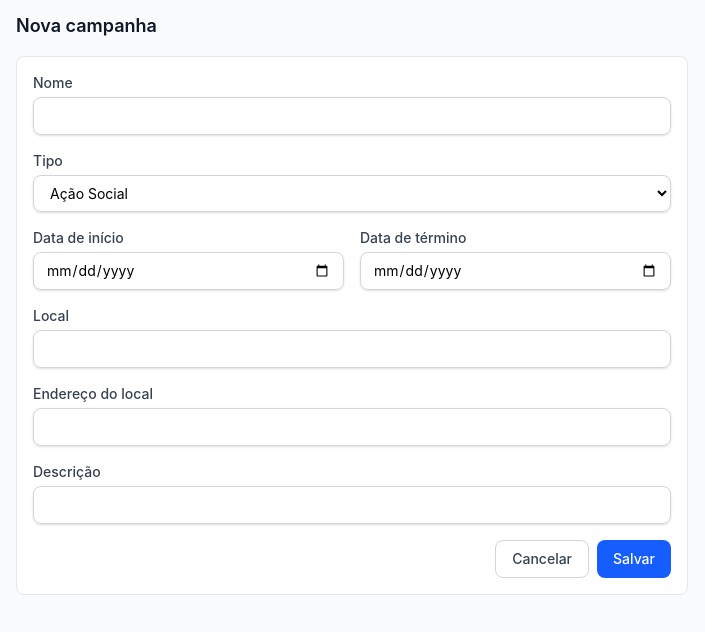
Test case: CampaignFormPage — review remediation › rejects an end date earlier than the start date client-side (N3)
Type "Datas Invertidas" into the field labelled "Nome" at (352, 116), box [33,97,671,135]
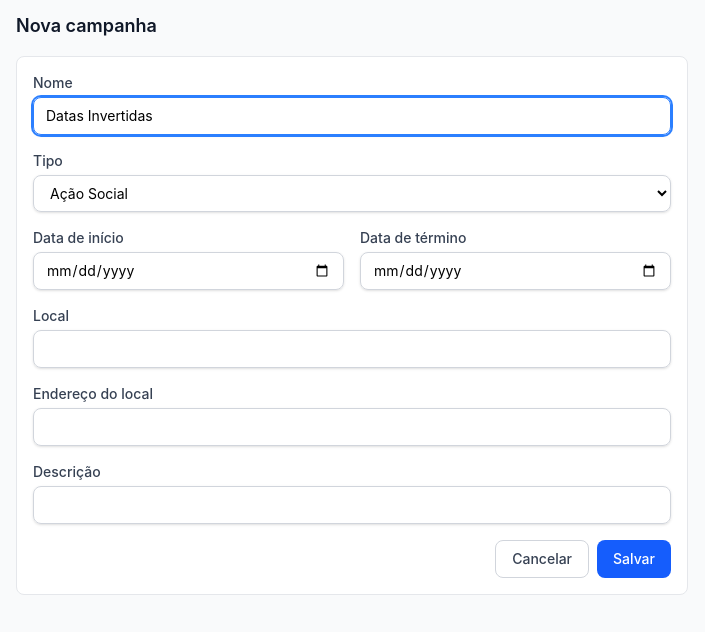
Type "2026-07-10" into the date field labelled "Data de início" at (188, 271), box [33,252,344,290]
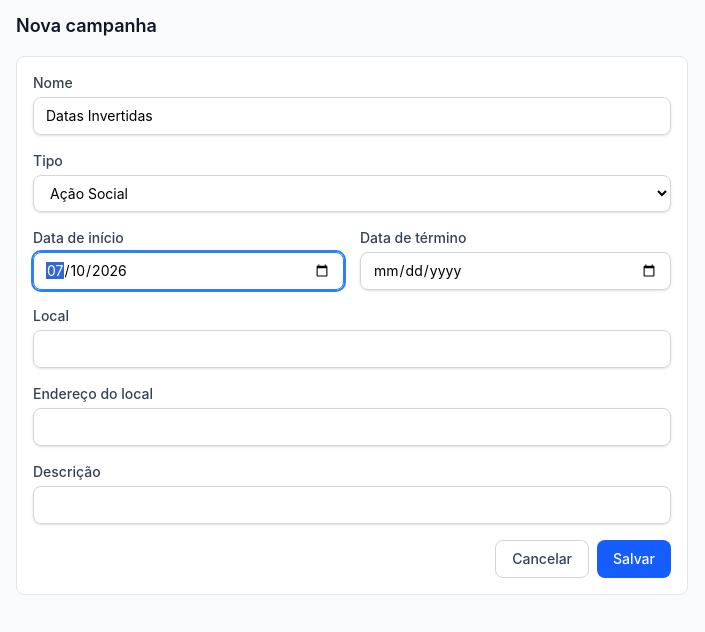
Type "2026-07-01" into the date field labelled "Data de término" at (516, 271), box [360,252,671,290]
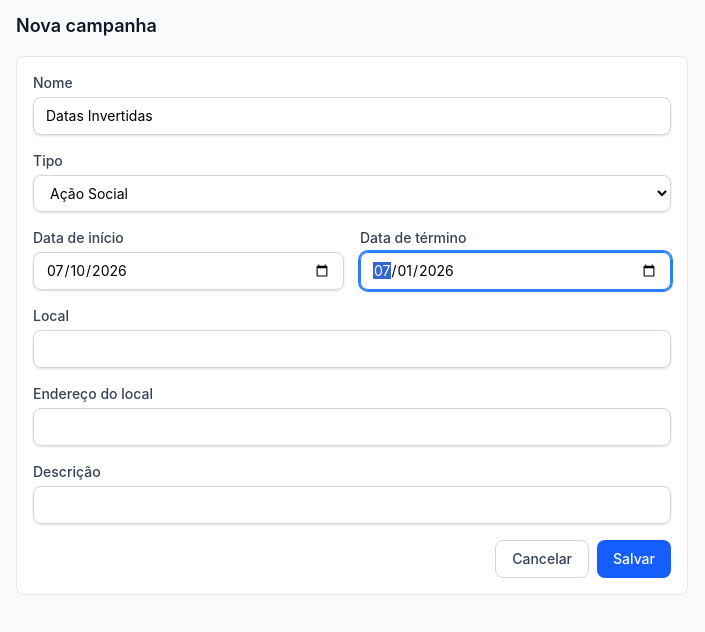
Click the button "Salvar" at (634, 559), box [597,540,671,578]
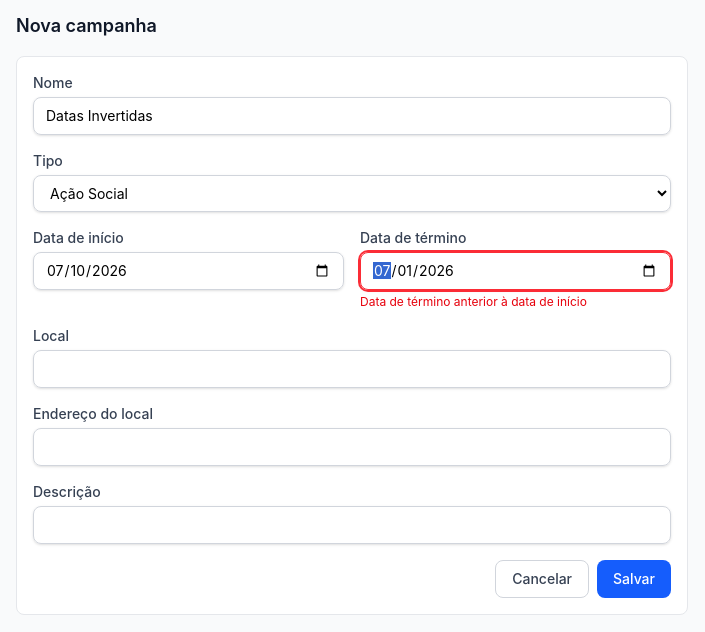
expect the text "Data de término anterior à data de início" is shown: met, box [360,294,587,309]
